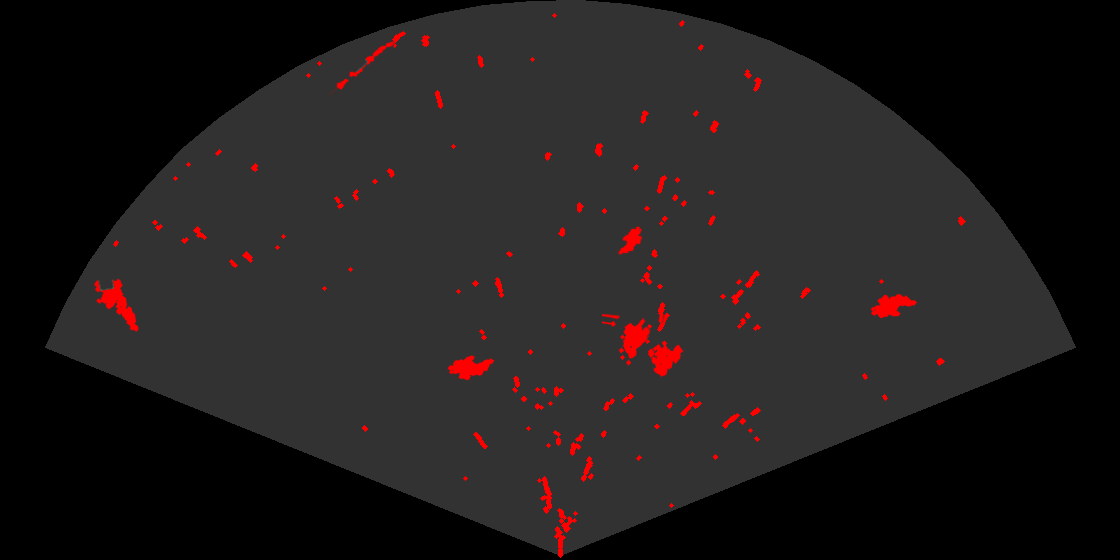AUV: (446, 354, 496, 382), (869, 293, 919, 320), (617, 225, 644, 256)
cage: (602, 314, 685, 378)
chain: (327, 40, 395, 95)
frogman: (93, 277, 140, 333)
